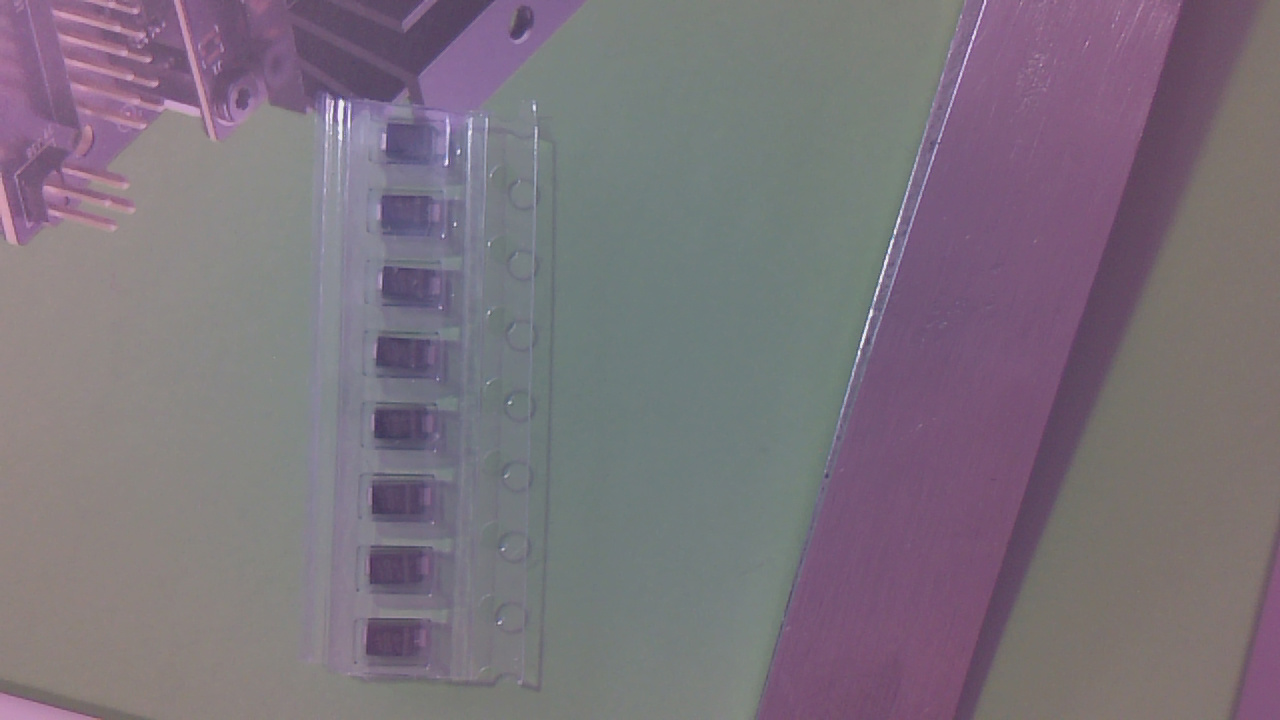Diode: (367, 624, 439, 662), (384, 128, 451, 167), (376, 340, 444, 378), (380, 198, 447, 236), (380, 271, 446, 308), (372, 486, 440, 520), (369, 554, 437, 588), (373, 411, 438, 442)
